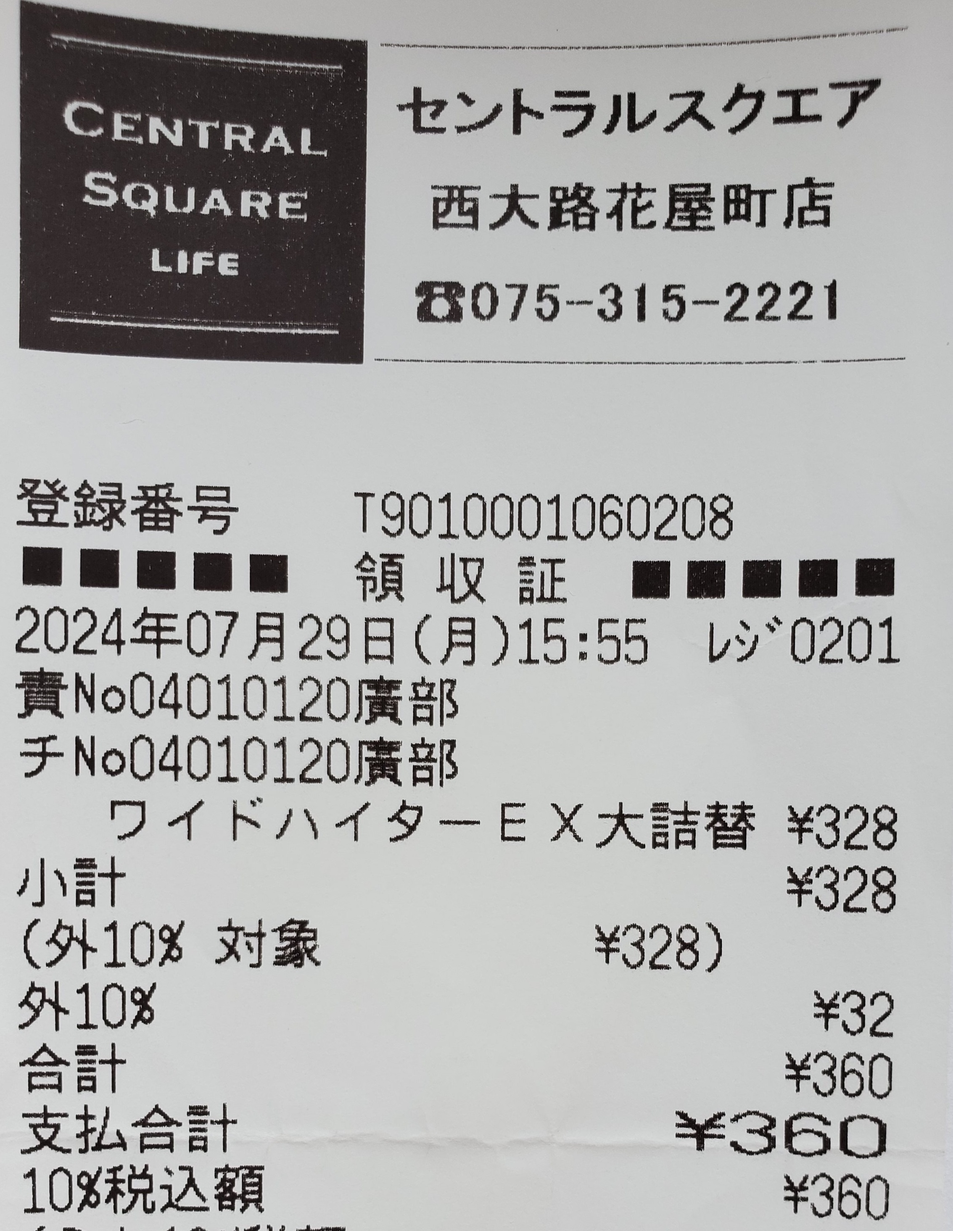Date: (8, 604, 402, 674)
Shopname: (391, 68, 908, 147)
Telnum: (465, 269, 854, 337)
Totalpay: (8, 1096, 940, 1165)
